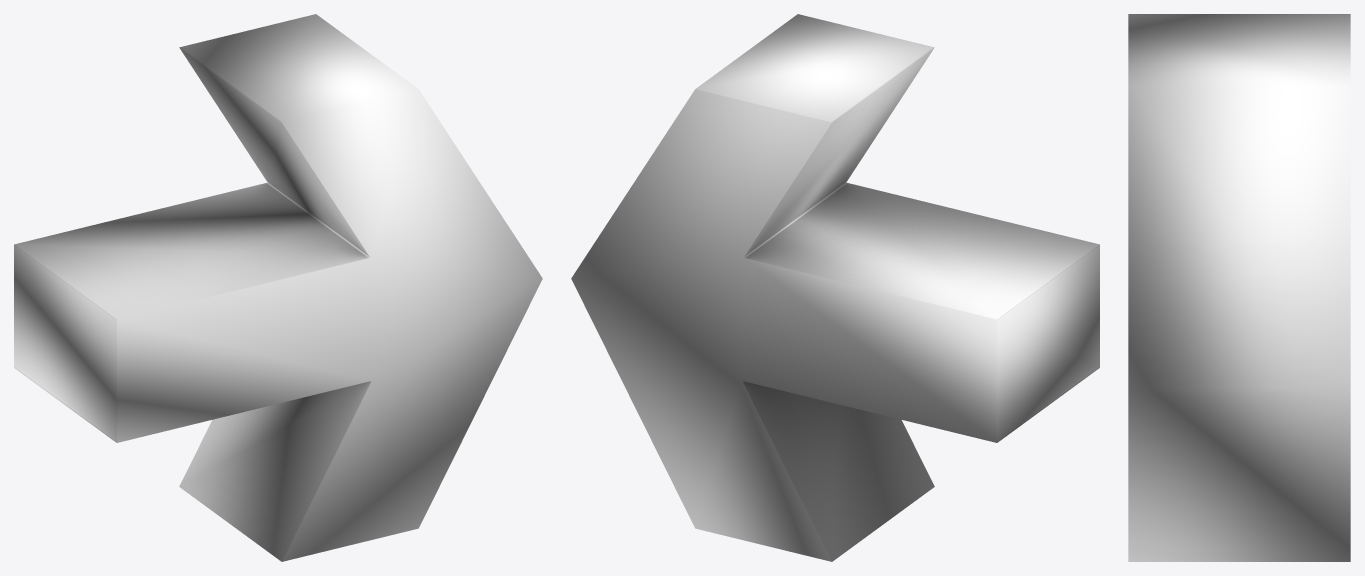
File: Arrow03.fbx
3 renders of one model, left to right at view 1: azimuth 30°, elevation 25°; view 2: azimuth 150°, elevation 25°; view 3: azimuth 270°, elevation 25°, orthographic. The views are drawn at different scales.
Visible parts, largest first — view 1: Arrow03; view 2: Arrow03; view 3: Arrow03.
Part boxes in pixels (x1,y1,x2,y2): Arrow03: (14,14,542,561); Arrow03: (571,14,1099,561); Arrow03: (1128,14,1350,561).
Size of the model in its own units: 5.07 by 5 by 2.12.
